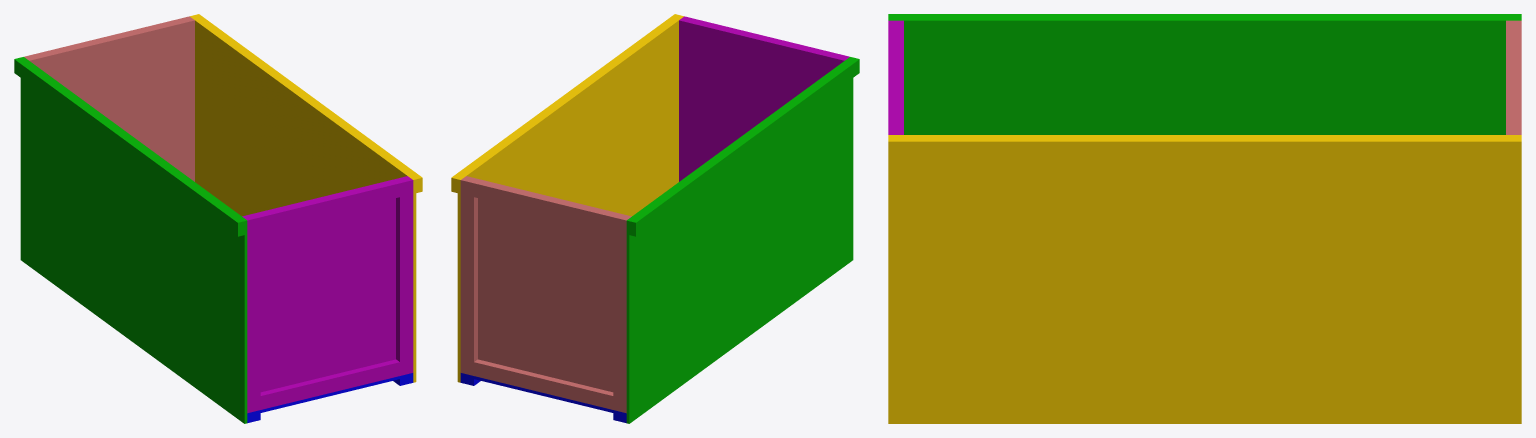
File: result.glb
The picture shows the model from 3 angles, left to right: view 1: azimuth 30°, elevation 25°; view 2: azimuth 150°, elevation 25°; view 3: azimuth 270°, elevation 25°; orthographic projection. The views are drawn at different scales.
Parts seen in each view (by area): view 1: 8077df3e-ee71-4999-baa6-34f51bd41fb4__Box_6, ac9be103-d70a-4207-a641-3851d342829a__undefined, df8ec198-4f76-49a1-bb56-7f31061a01e8__Box_3, ea3def66-5ca7-4d98-87c9-f1eaa1a014c8__undefined, e81aa057-7e77-4eef-bc57-6dcdae348f5d__Box_7, f6e519cc-673b-4fb0-825f-04d4741ff6f2__undefined, 7813238b-56df-44f4-9f4b-259e10af541a__Box_4, c7c3808b-5b07-4b2c-9663-135938502bc2__undefined, 74554531-3920-410f-965e-13dc720ab9a0__Box_5, a93e223f-1a19-4fa6-bb77-26f4e2608c16__undefined, aa117fef-30f7-4f85-9779-ab2fa256d82f__Box, e19d9de1-1c37-4d49-8401-ee0e2d34a0df__undefined; view 2: 8077df3e-ee71-4999-baa6-34f51bd41fb4__Box_6, ac9be103-d70a-4207-a641-3851d342829a__undefined, ea3def66-5ca7-4d98-87c9-f1eaa1a014c8__undefined, df8ec198-4f76-49a1-bb56-7f31061a01e8__Box_3, e81aa057-7e77-4eef-bc57-6dcdae348f5d__Box_7, fe4612f8-000d-41d5-9c68-bc78dc9c13a9__undefined, 67f2b147-9e44-4dc1-9469-36c36f14abc8__undefined, e19d9de1-1c37-4d49-8401-ee0e2d34a0df__undefined, 666358d6-93be-49f4-ab3c-52ccc6be0b98__undefined, a93e223f-1a19-4fa6-bb77-26f4e2608c16__undefined, aa117fef-30f7-4f85-9779-ab2fa256d82f__Box, c7c3808b-5b07-4b2c-9663-135938502bc2__undefined; view 3: ac9be103-d70a-4207-a641-3851d342829a__undefined, 8077df3e-ee71-4999-baa6-34f51bd41fb4__Box_6, a93e223f-1a19-4fa6-bb77-26f4e2608c16__undefined, e81aa057-7e77-4eef-bc57-6dcdae348f5d__Box_7, c7c3808b-5b07-4b2c-9663-135938502bc2__undefined, e19d9de1-1c37-4d49-8401-ee0e2d34a0df__undefined.
Part boxes in pixels (box(x1,y1,x2,y2)): 8077df3e-ee71-4999-baa6-34f51bd41fb4__Box_6: box(20, 57, 247, 423); ac9be103-d70a-4207-a641-3851d342829a__undefined: box(190, 15, 416, 382); df8ec198-4f76-49a1-bb56-7f31061a01e8__Box_3: box(242, 176, 408, 392); ea3def66-5ca7-4d98-87c9-f1eaa1a014c8__undefined: box(28, 19, 194, 181); e81aa057-7e77-4eef-bc57-6dcdae348f5d__Box_7: box(14, 57, 244, 236); f6e519cc-673b-4fb0-825f-04d4741ff6f2__undefined: box(396, 177, 413, 375); 7813238b-56df-44f4-9f4b-259e10af541a__Box_4: box(244, 214, 260, 413); c7c3808b-5b07-4b2c-9663-135938502bc2__undefined: box(257, 180, 399, 230); 74554531-3920-410f-965e-13dc720ab9a0__Box_5: box(260, 359, 399, 409); a93e223f-1a19-4fa6-bb77-26f4e2608c16__undefined: box(193, 14, 422, 192); aa117fef-30f7-4f85-9779-ab2fa256d82f__Box: box(247, 373, 413, 416); e19d9de1-1c37-4d49-8401-ee0e2d34a0df__undefined: box(37, 19, 179, 56); 8077df3e-ee71-4999-baa6-34f51bd41fb4__Box_6: box(626, 57, 853, 423); ac9be103-d70a-4207-a641-3851d342829a__undefined: box(457, 15, 683, 382); ea3def66-5ca7-4d98-87c9-f1eaa1a014c8__undefined: box(465, 176, 631, 392); df8ec198-4f76-49a1-bb56-7f31061a01e8__Box_3: box(679, 19, 845, 181); e81aa057-7e77-4eef-bc57-6dcdae348f5d__Box_7: box(629, 57, 859, 236); fe4612f8-000d-41d5-9c68-bc78dc9c13a9__undefined: box(460, 177, 477, 375); 67f2b147-9e44-4dc1-9469-36c36f14abc8__undefined: box(613, 214, 629, 413); e19d9de1-1c37-4d49-8401-ee0e2d34a0df__undefined: box(474, 180, 616, 230); 666358d6-93be-49f4-ab3c-52ccc6be0b98__undefined: box(474, 359, 613, 409); a93e223f-1a19-4fa6-bb77-26f4e2608c16__undefined: box(451, 14, 680, 192); aa117fef-30f7-4f85-9779-ab2fa256d82f__Box: box(460, 373, 626, 416); c7c3808b-5b07-4b2c-9663-135938502bc2__undefined: box(694, 19, 836, 56); ac9be103-d70a-4207-a641-3851d342829a__undefined: box(888, 135, 1521, 423); 8077df3e-ee71-4999-baa6-34f51bd41fb4__Box_6: box(888, 18, 1521, 134); a93e223f-1a19-4fa6-bb77-26f4e2608c16__undefined: box(888, 137, 1521, 161); e81aa057-7e77-4eef-bc57-6dcdae348f5d__Box_7: box(888, 14, 1521, 18); c7c3808b-5b07-4b2c-9663-135938502bc2__undefined: box(888, 29, 899, 125); e19d9de1-1c37-4d49-8401-ee0e2d34a0df__undefined: box(1510, 29, 1521, 125).
Size of the model in its own units: 502 by 526 by 1052.
